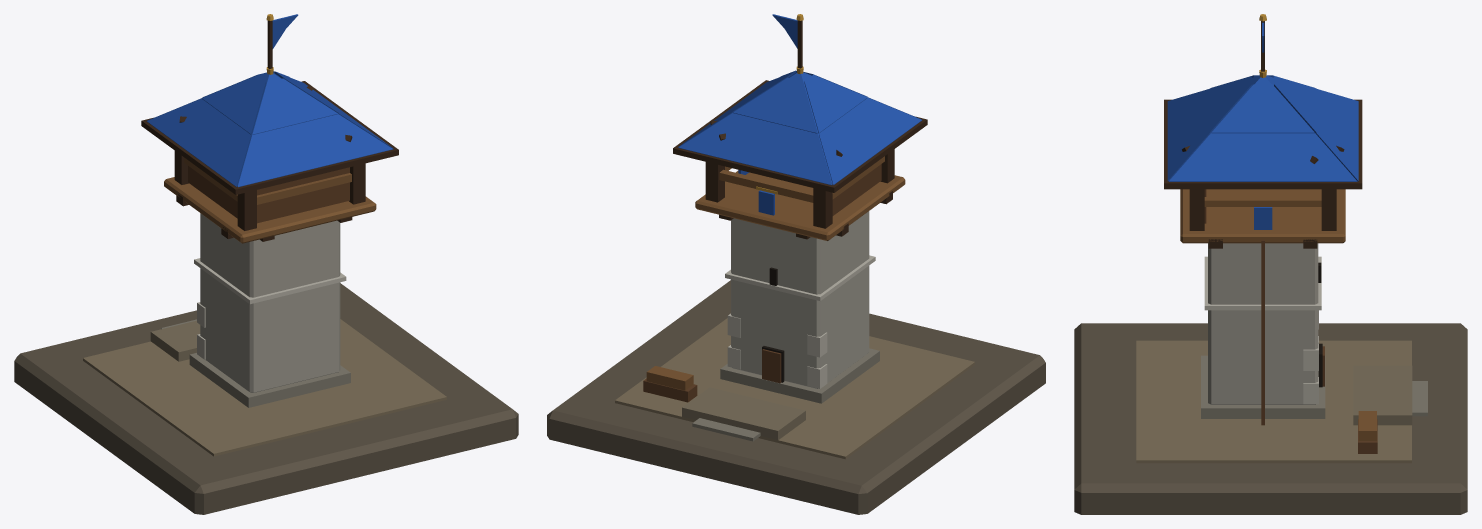
3 views of the same model, side by side, from view 1: azimuth 30°, elevation 25°; view 2: azimuth 150°, elevation 25°; view 3: azimuth 270°, elevation 25° (orthographic). The views are drawn at different scales.
Parts seen in each view (by area): view 1: 哨塔_2星; view 2: 哨塔_2星; view 3: 哨塔_2星.
Part boxes in pixels (left/top/right/bottom): 哨塔_2星: left=14, top=14, right=518, bottom=514; 哨塔_2星: left=547, top=14, right=1045, bottom=514; 哨塔_2星: left=1074, top=14, right=1467, bottom=514.
Bounding box in the file's own units: 1 × 1.17 × 1.
